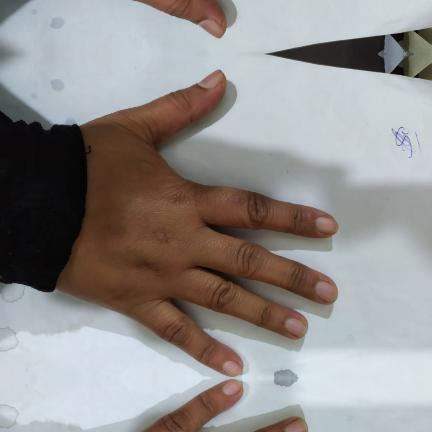Nail: (197, 69, 223, 89), (197, 19, 223, 39), (315, 281, 338, 303), (285, 318, 308, 337), (316, 216, 339, 234), (222, 360, 242, 376), (222, 380, 242, 396), (285, 419, 308, 432)
